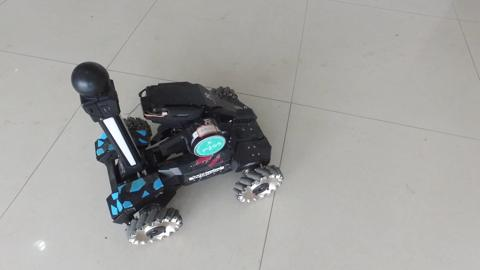chariot: (51, 71, 293, 223)
